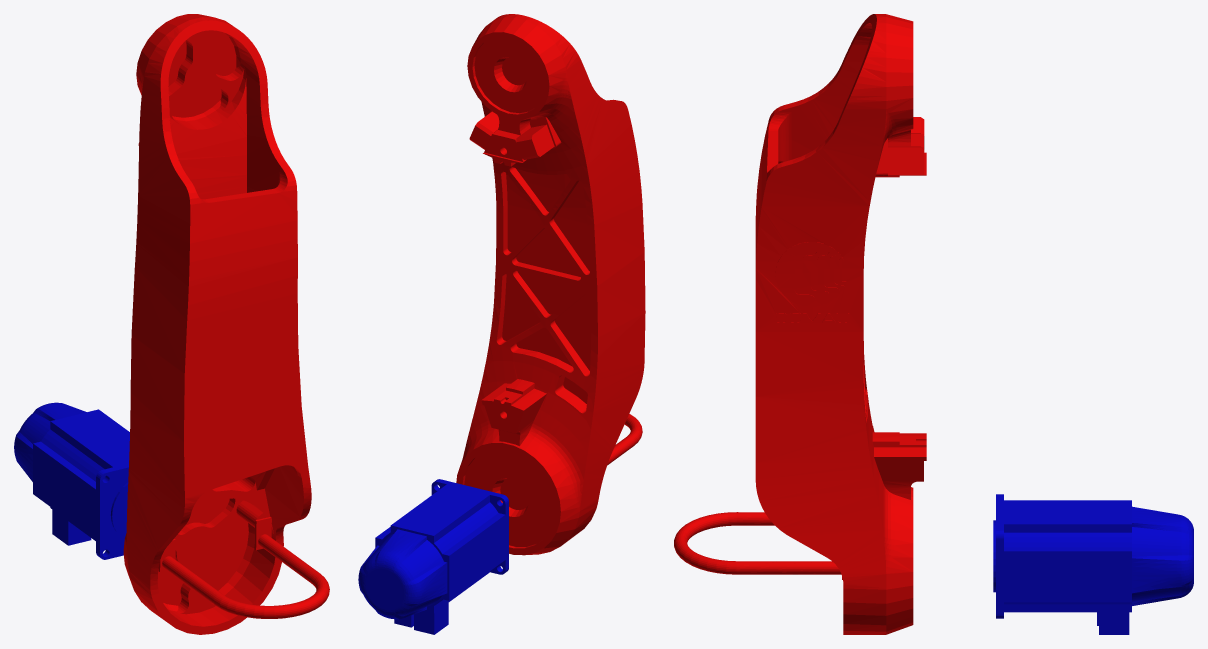
The model's file is axes_2.dae.
The picture shows the model from 3 angles, left to right: view 1: azimuth 30°, elevation 25°; view 2: azimuth 150°, elevation 25°; view 3: azimuth 270°, elevation 25°; orthographic projection. The views are drawn at different scales.
Parts seen in each view (by area): view 1: ShapeIndexedFaceSet, ShapeIndexedFaceSet_001; view 2: ShapeIndexedFaceSet, ShapeIndexedFaceSet_001; view 3: ShapeIndexedFaceSet, ShapeIndexedFaceSet_001.
Part boxes in pixels (x1,y1,x2,y2): ShapeIndexedFaceSet: (123,14,329,634); ShapeIndexedFaceSet_001: (14,402,129,559); ShapeIndexedFaceSet: (456,14,645,555); ShapeIndexedFaceSet_001: (358,479,508,634); ShapeIndexedFaceSet: (674,14,926,634); ShapeIndexedFaceSet_001: (993,494,1193,634).
Size of the model in its own units: 187 by 578 by 745.
